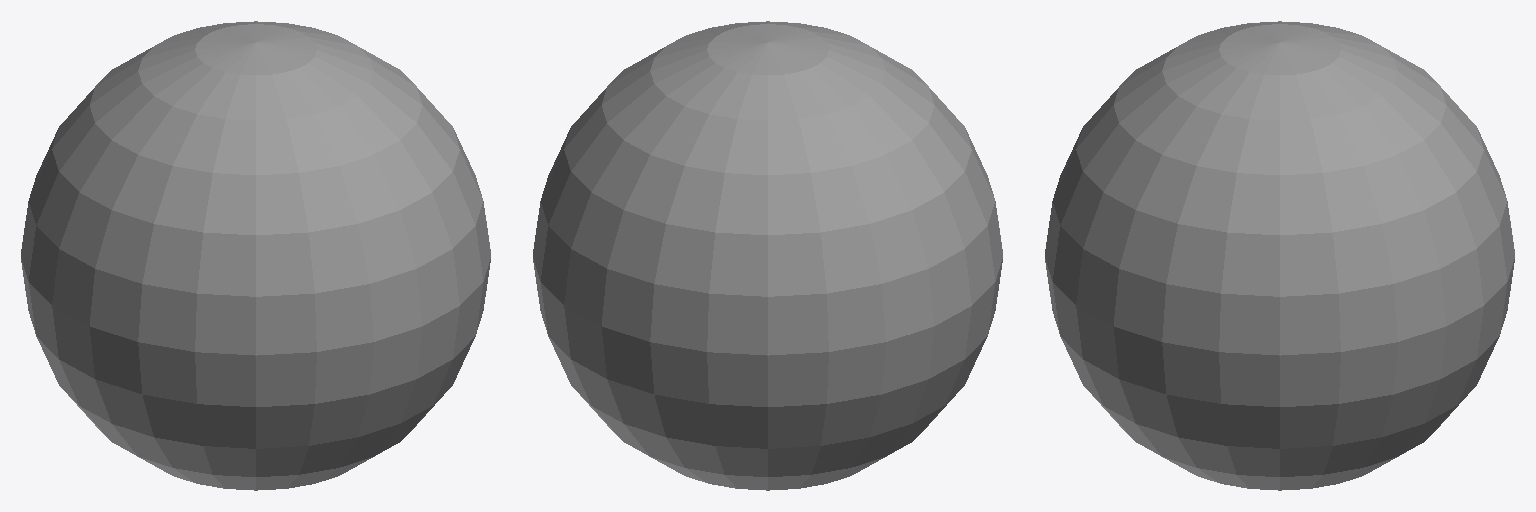
The model's file is sphere-bot-with-hydraulics.obj.
3 renders of one model, left to right at view 1: azimuth 30°, elevation 25°; view 2: azimuth 150°, elevation 25°; view 3: azimuth 270°, elevation 25°, orthographic.
Visible parts, largest first — view 1: Leg_2_Leg, Leg_2.004_Leg.007, Leg_2.001_Leg.006, Leg_2.005_Leg.008; view 2: Leg_2_Leg, Leg_2.005_Leg.008, Leg_2.004_Leg.007; view 3: Leg_2_Leg, Leg_2.004_Leg.007, Leg_2.005_Leg.008, Leg_2.001_Leg.006.
Boxes of the visible parts, x1=… form: Leg_2_Leg: x1=21, y1=21, x2=490, y2=490; Leg_2.004_Leg.007: x1=256, y1=63, x2=459, y2=355; Leg_2.001_Leg.006: x1=256, y1=306, x2=459, y2=490; Leg_2.005_Leg.008: x1=195, y1=24, x2=316, y2=75; Leg_2_Leg: x1=533, y1=21, x2=1002, y2=490; Leg_2.005_Leg.008: x1=707, y1=24, x2=828, y2=75; Leg_2.004_Leg.007: x1=768, y1=21, x2=868, y2=45; Leg_2_Leg: x1=1076, y1=21, x2=1514, y2=490; Leg_2.004_Leg.007: x1=1045, y1=37, x2=1226, y2=304; Leg_2.005_Leg.008: x1=1219, y1=24, x2=1340, y2=75; Leg_2.001_Leg.006: x1=1045, y1=259, x2=1132, y2=438.
Bounding box in the file's own units: 2 × 2 × 2.